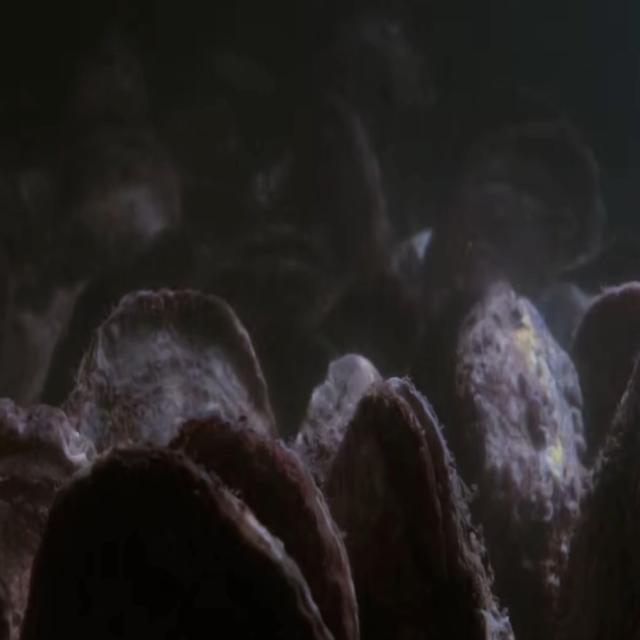Oyster-Closed: (23, 443, 332, 640), (170, 409, 362, 640), (0, 396, 98, 640)
Oyster-Indeterminate: (62, 286, 278, 640), (446, 281, 587, 640), (422, 116, 606, 335), (291, 351, 382, 640), (305, 91, 401, 291), (62, 143, 181, 272), (570, 284, 640, 497)
Oyster-Open: (324, 375, 516, 640), (214, 218, 335, 309)
